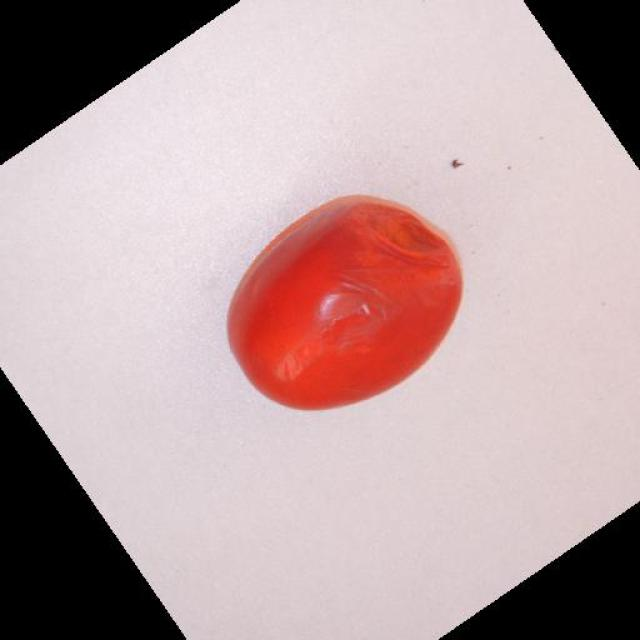Stale_tomato: (233, 211, 475, 404)
